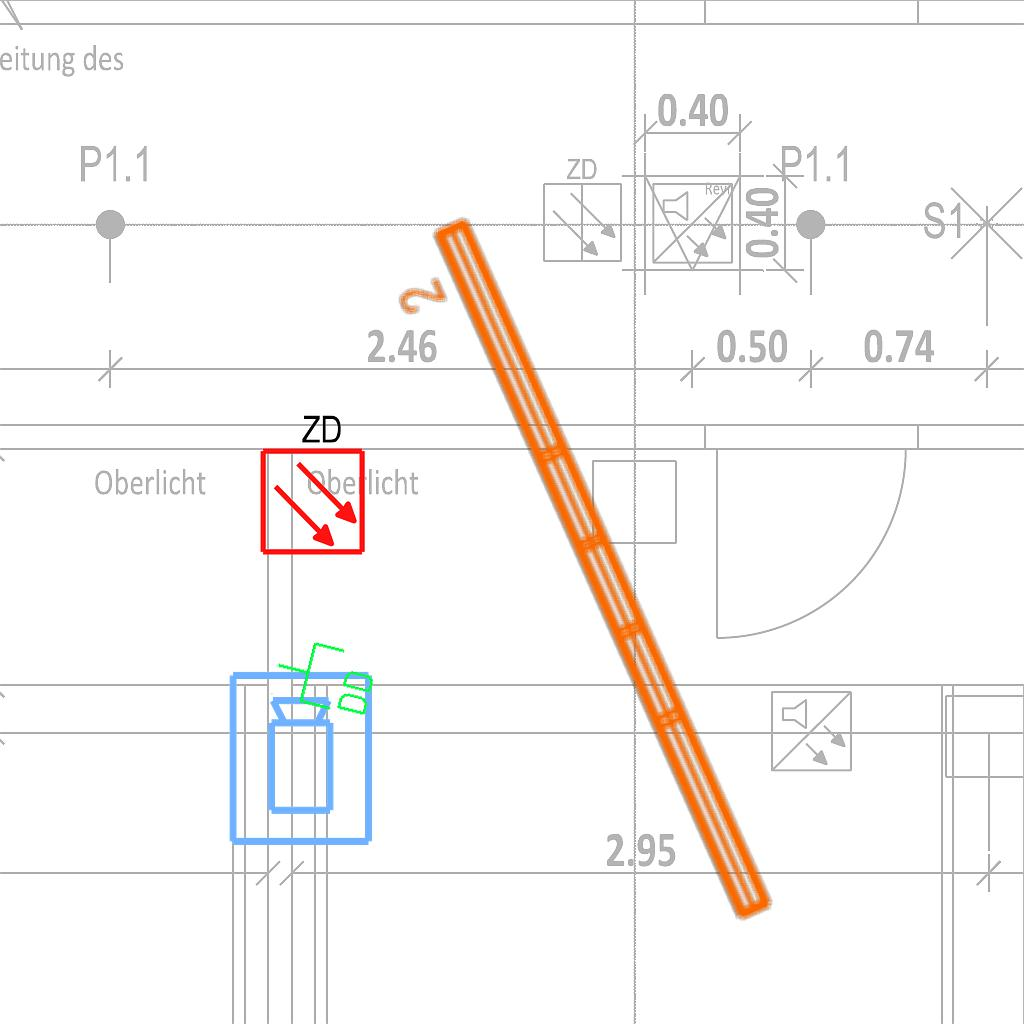Ambulanz_Pendelleuchte_LED: (371, 203, 789, 957)
Datenanschluss_zweifach: (267, 631, 384, 724)
KFO_Kamera_mit_Festobjektiv: (225, 668, 379, 850)
ZD_Melder_in_Zwischendecke_mit_Revisionsoeffnung_mind_40_x_40_cm: (254, 408, 368, 557)
